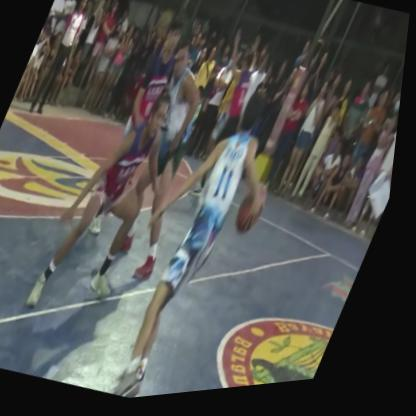basketball: (231, 187, 279, 250)
